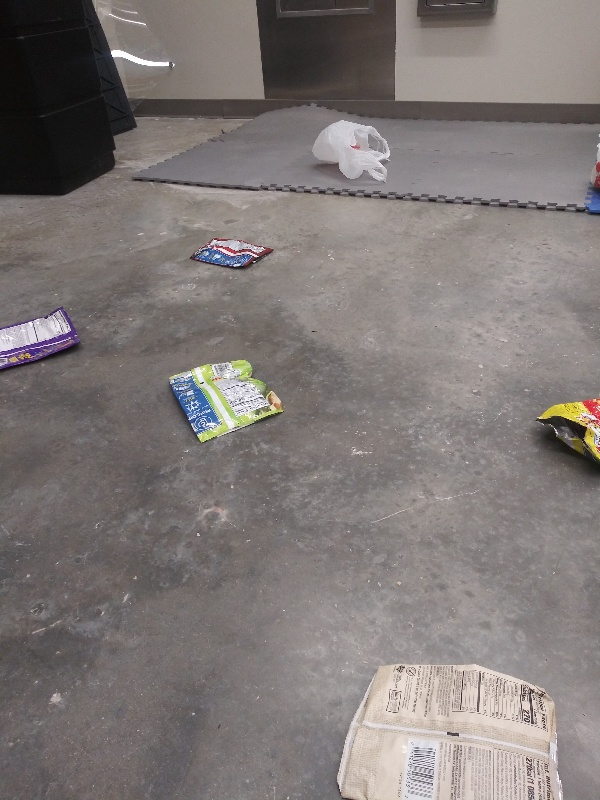bag: (329, 658, 575, 800), (164, 355, 287, 447), (528, 397, 600, 476), (1, 304, 82, 374), (187, 235, 277, 275)
